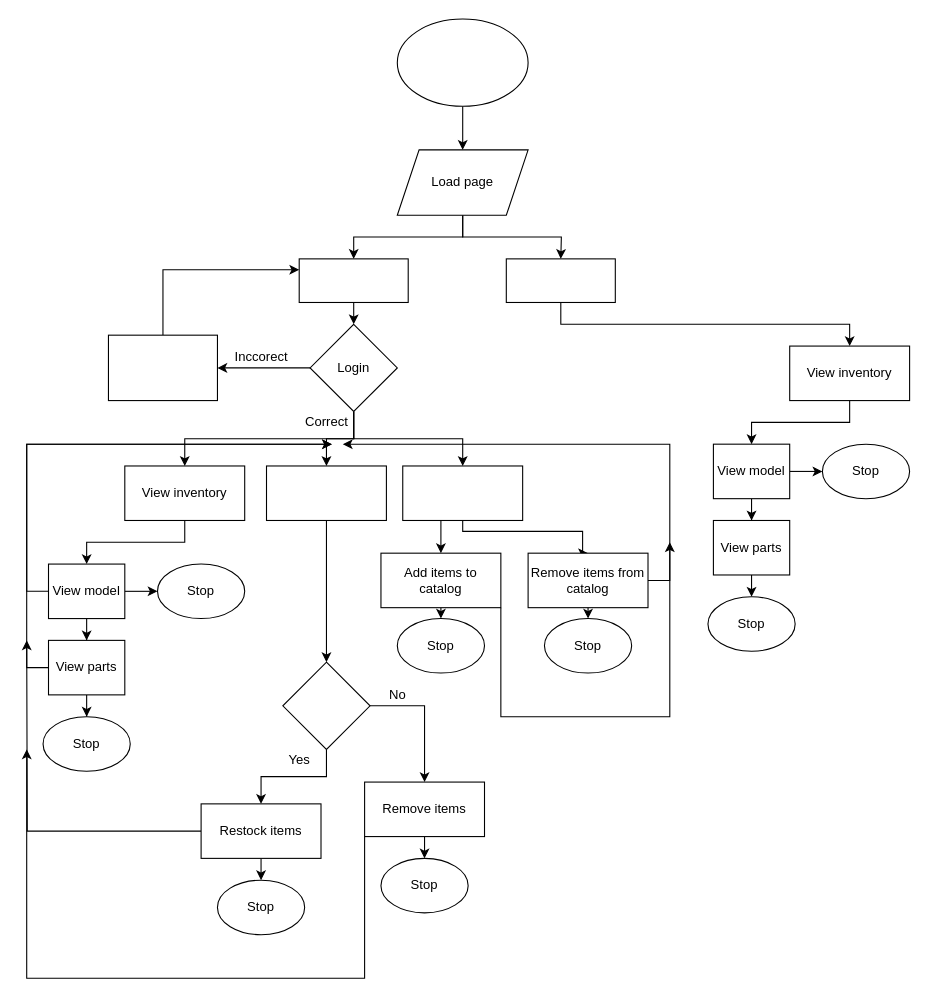
Some shapes in this 929 by 1006 pixel diagram are drawn without their labels. Here are the shapes that lost their labels. From the top down, the centre of each, then its label:
At (x=462, y=62): "Start".
At (x=353, y=280): "Manager".
At (x=560, y=280): "Worker".
At (x=162, y=367): "Error/Reset Password".
At (x=325, y=492): "Track inventory".
At (x=462, y=492): "Manage inventory".
At (x=326, y=705): "Low inventory".
